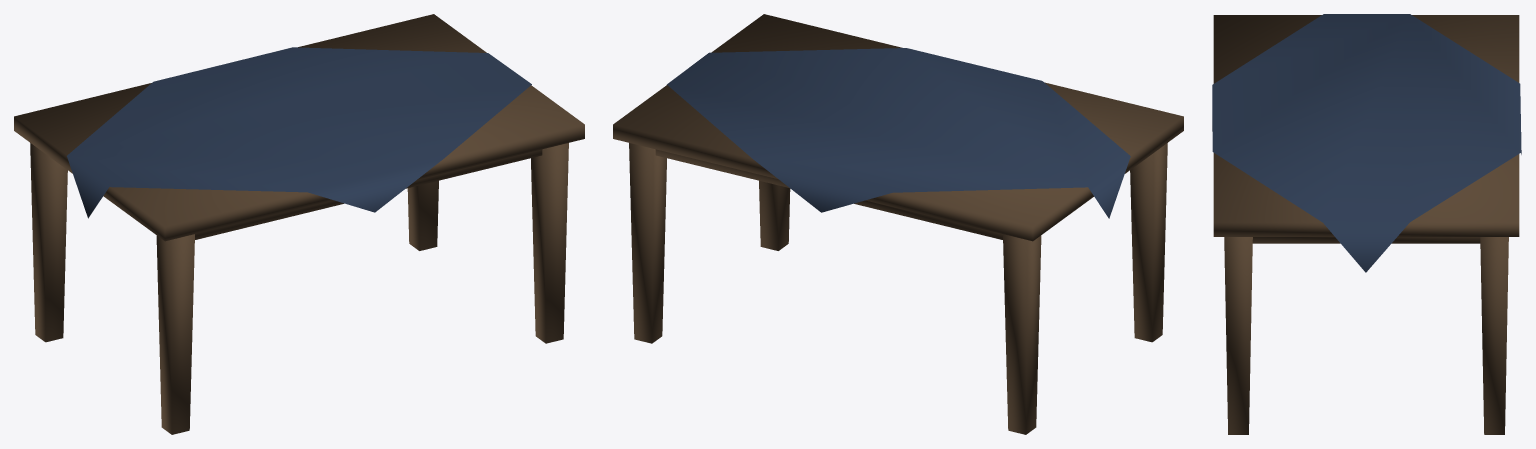
Rendered from Table_Everything_V1.fbx.
The picture shows the model from 3 angles, left to right: view 1: azimuth 30°, elevation 25°; view 2: azimuth 150°, elevation 25°; view 3: azimuth 270°, elevation 25°; orthographic projection.
Parts seen in each view (by area): view 1: Plane, Cube, Cube.002, Cube.001; view 2: Plane, Cube, Cube.002, Cube.001; view 3: Plane, Cube, Cube.002, Cube.001.
Boxes of the visible parts, box(x1,y1,x2,y2) form: Plane: box(67, 47, 531, 218); Cube: box(14, 14, 584, 241); Cube.002: box(30, 143, 568, 434); Cube.001: box(195, 149, 542, 239); Plane: box(667, 48, 1130, 218); Cube: box(613, 14, 1183, 241); Cube.002: box(629, 143, 1167, 434); Cube.001: box(655, 149, 1002, 239); Plane: box(1212, 14, 1521, 272); Cube: box(1213, 15, 1519, 236); Cube.002: box(1224, 237, 1508, 434); Cube.001: box(1252, 237, 1480, 243).
Bounding box in the file's own units: 210 × 103 × 131.
